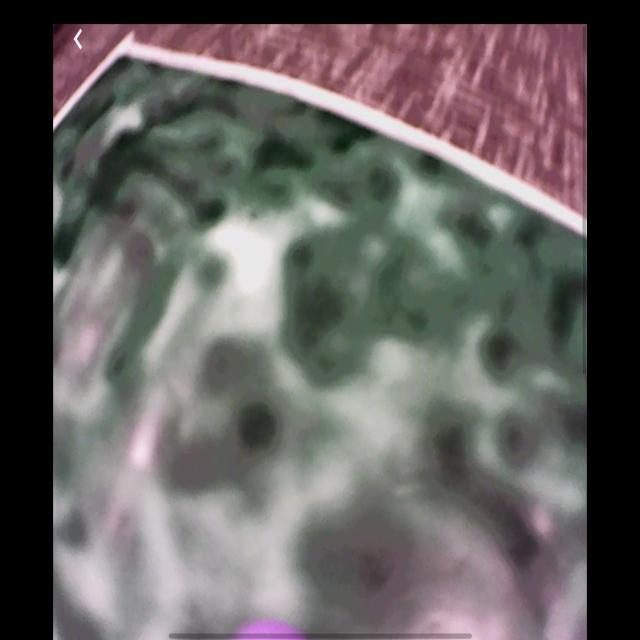ball: (234, 619, 308, 640)
